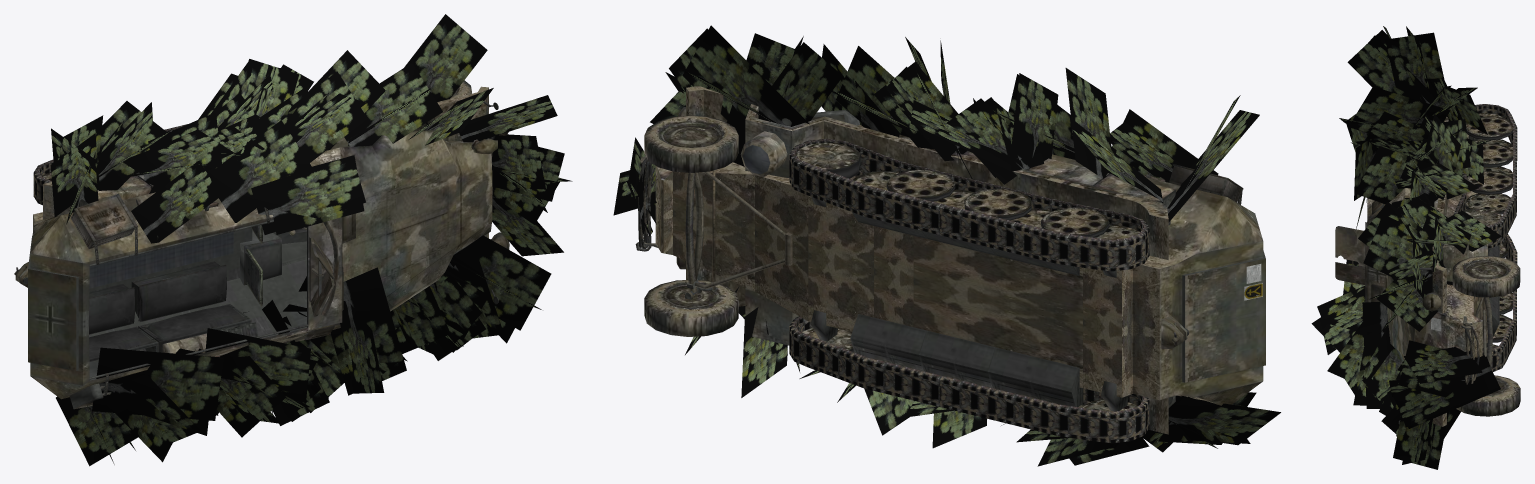
The model's file is vehicle_halftrack_mg_brush_static.glb.
3 views of the same model, side by side, from view 1: azimuth 30°, elevation 25°; view 2: azimuth 150°, elevation 25°; view 3: azimuth 270°, elevation 25° (orthographic). The views are drawn at different scales.
Size of the model in its own units: 261 by 159 by 103.
Materials: 4 (4 with a texture image).
